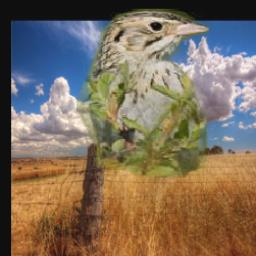Sparrow: (76, 10, 209, 179)
